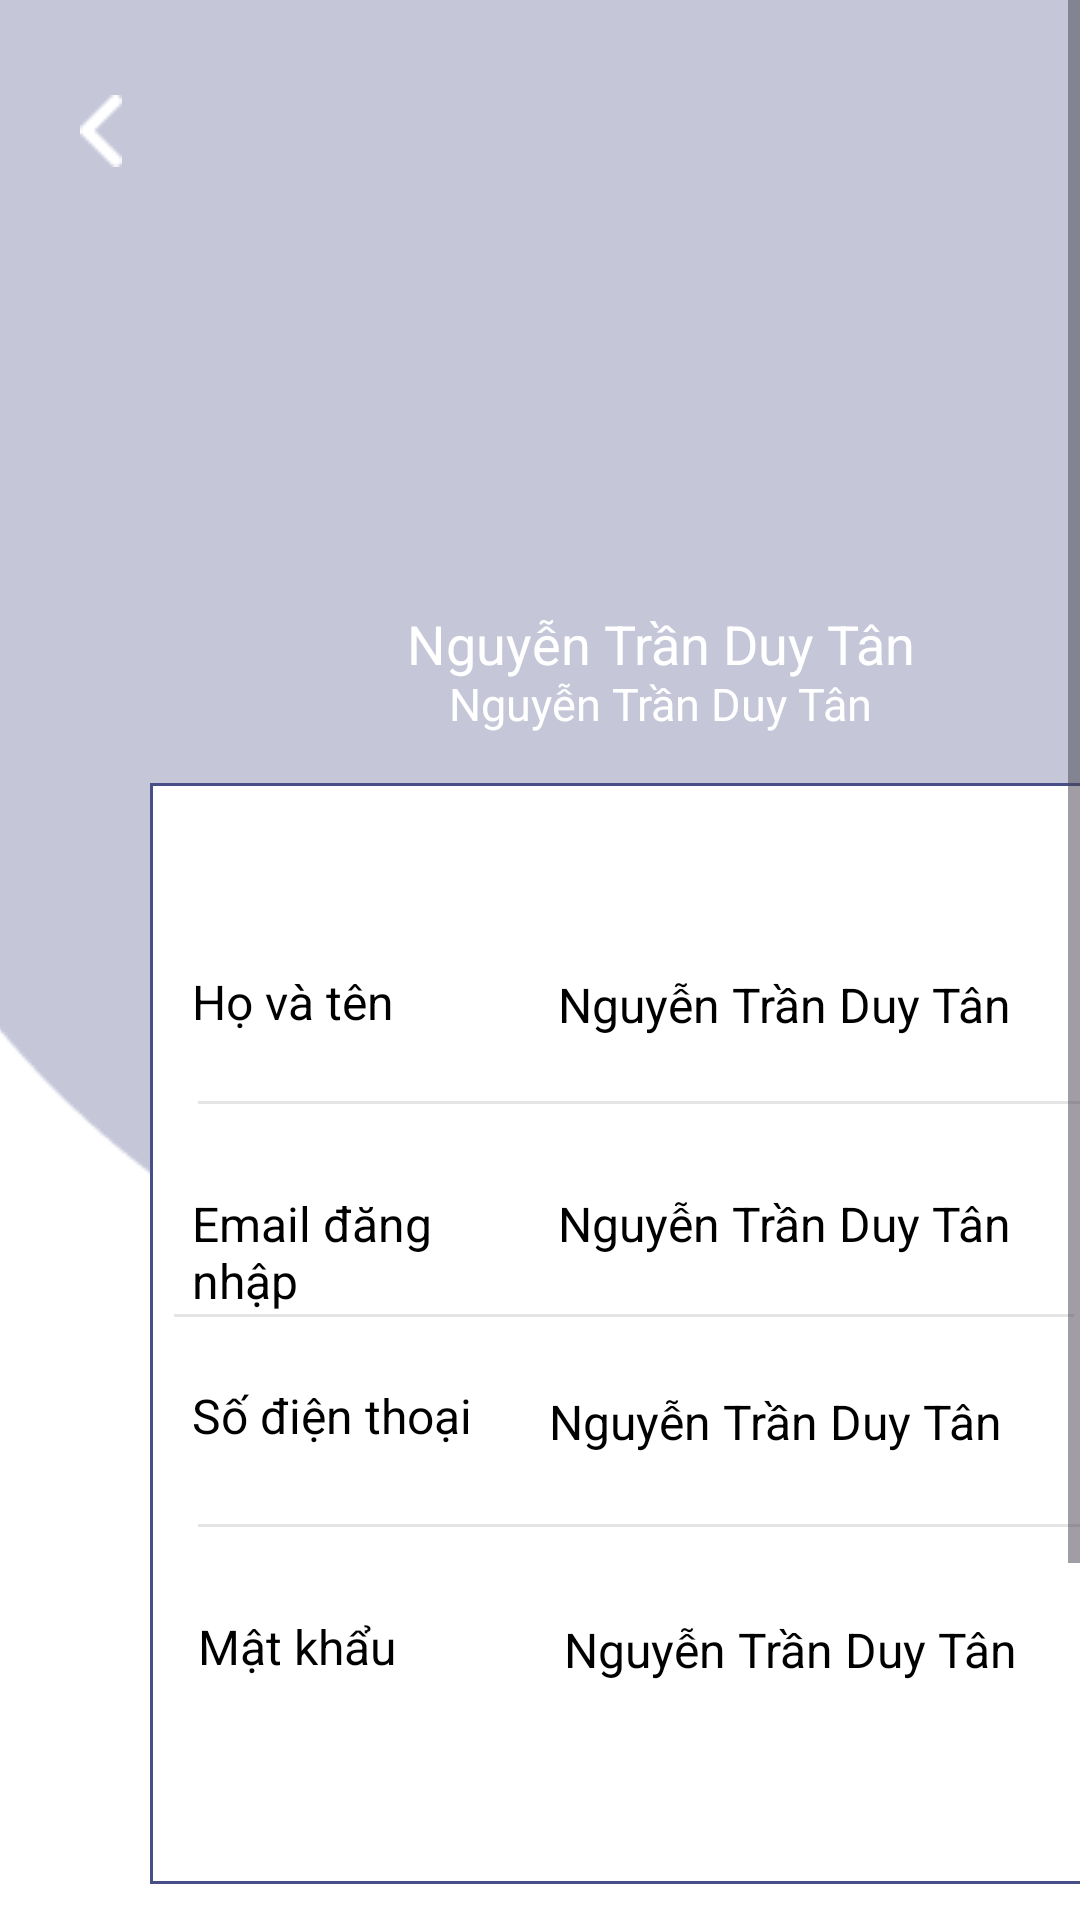

Locate icon controls on the screen. Image size 1080 x 1920, boxes as (x1, y1, x2, y2).
quaylai: (80, 95, 122, 167)
